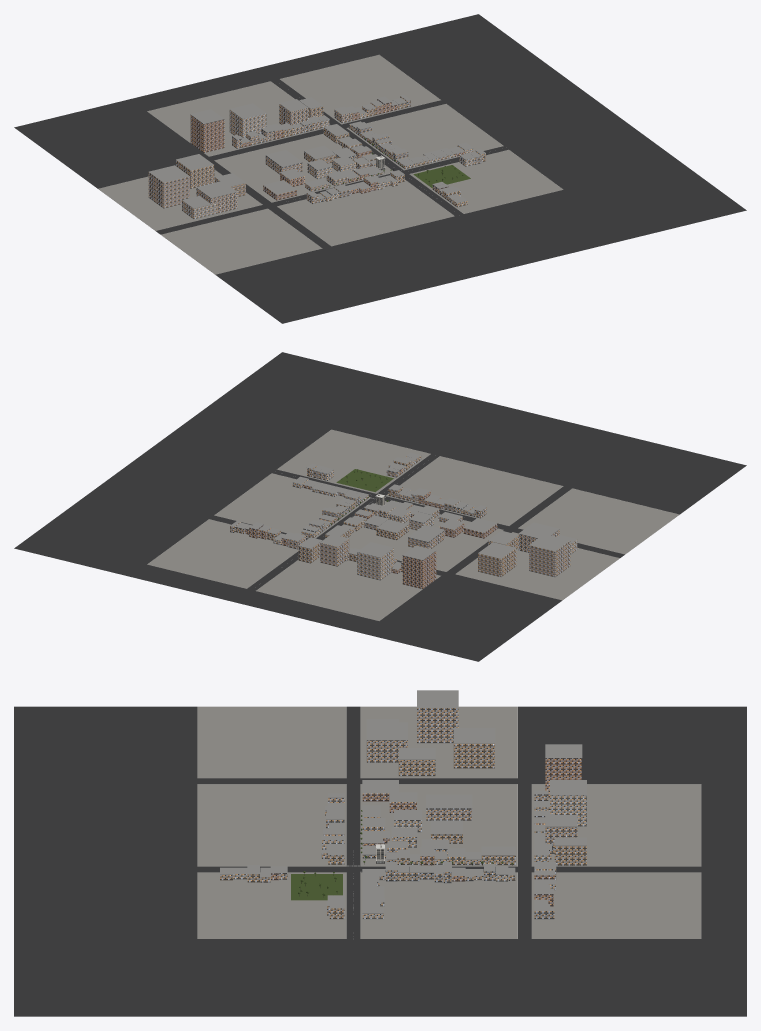
File: torre-cityh.glb
The picture shows the model from 3 angles, top to bottom: view 1: azimuth 30°, elevation 25°; view 2: azimuth 150°, elevation 25°; view 3: azimuth 270°, elevation 25°; orthographic projection. The views are drawn at different scales.
Visible parts, largest first — view 1: Calzada, Veredas, Vecinos_Cornisas, Vecinos_0, Vecinos_2, Vecinos_3, Vecinos_4, Vecinos_1, Parque_Web; view 2: Calzada, Veredas, Vecinos_Cornisas, Vecinos_0, Vecinos_4, Vecinos_2, Vecinos_3, Parque_Web, Vecinos_1; view 3: Calzada, Veredas, Vecinos_Cornisas, Vecinos_0, Vecinos_4, Vecinos_2, Vecinos_3, Parque_Web, Vecinos_1, Cordones_Web.
Part boxes in pixels (bbox=[...]): Calzada: bbox=[14, 14, 746, 323]; Veredas: bbox=[98, 55, 562, 274]; Vecinos_Cornisas: bbox=[149, 95, 485, 208]; Vecinos_0: bbox=[148, 104, 448, 213]; Vecinos_2: bbox=[190, 99, 464, 200]; Vecinos_3: bbox=[182, 110, 474, 219]; Vecinos_4: bbox=[176, 101, 485, 207]; Vecinos_1: bbox=[259, 96, 481, 202]; Parque_Web: bbox=[413, 165, 470, 188]; Calzada: bbox=[14, 352, 746, 661]; Veredas: bbox=[147, 429, 679, 620]; Vecinos_Cornisas: bbox=[230, 453, 576, 569]; Vecinos_0: bbox=[288, 465, 570, 577]; Vecinos_4: bbox=[235, 456, 518, 576]; Vecinos_2: bbox=[245, 468, 497, 589]; Vecinos_3: bbox=[273, 459, 577, 580]; Parque_Web: bbox=[336, 469, 393, 492]; Vecinos_1: bbox=[230, 470, 474, 532]; Calzada: bbox=[14, 706, 746, 1016]; Veredas: bbox=[197, 706, 700, 938]; Vecinos_Cornisas: bbox=[220, 690, 586, 913]; Vecinos_0: bbox=[260, 708, 577, 882]; Vecinos_4: bbox=[220, 743, 586, 919]; Vecinos_2: bbox=[271, 758, 581, 906]; Vecinos_3: bbox=[233, 795, 586, 919]; Parque_Web: bbox=[291, 874, 342, 900]; Vecinos_1: bbox=[326, 820, 554, 919]; Cordones_Web: bbox=[197, 707, 701, 938].
Bounding box in the file's own units: 160 × 9.57 × 160.
Materials: 24 (5 with a texture image).
